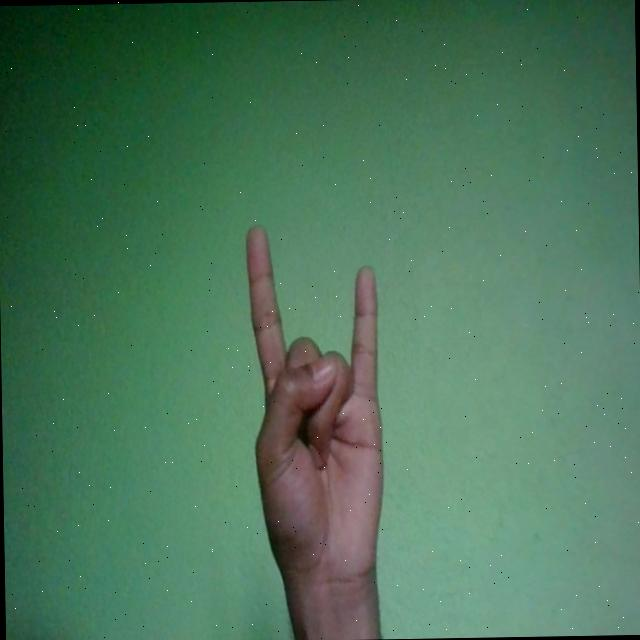open Plam: (245, 223, 386, 596)
